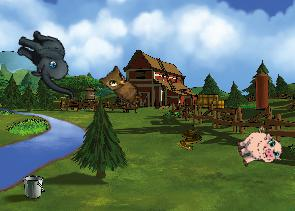elephant: (6, 26, 89, 100)
owl: (96, 61, 150, 107)
pig: (232, 123, 285, 174)
